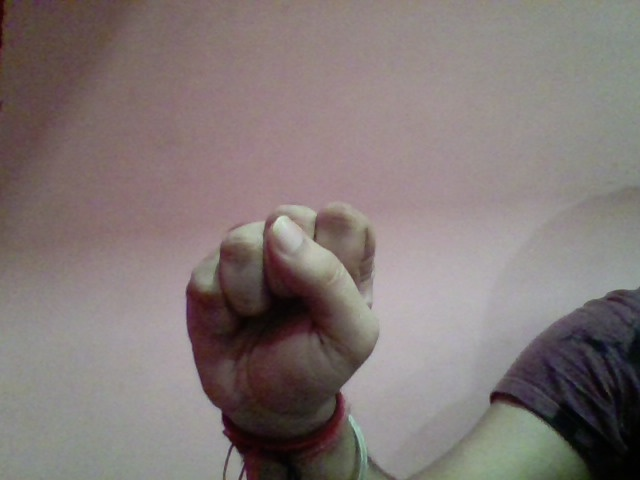s: (177, 193, 394, 419)
